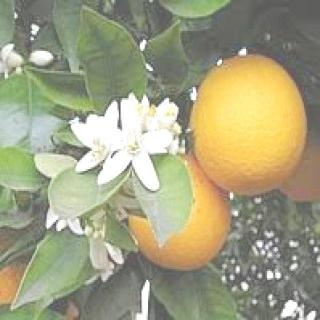orange: (185, 40, 305, 214), (109, 138, 236, 298)
